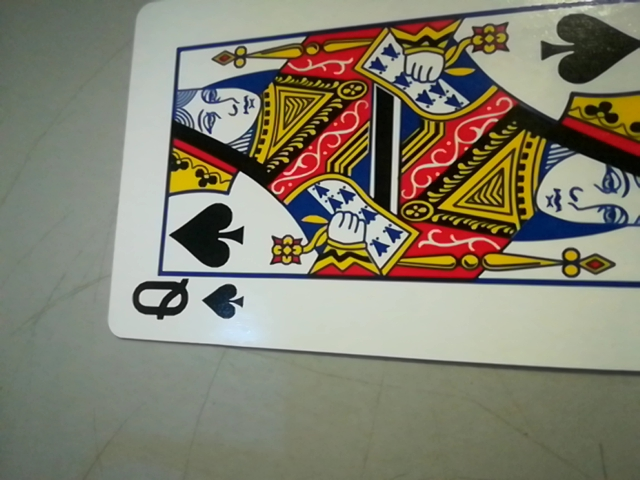ht q: (113, 263, 253, 335)
